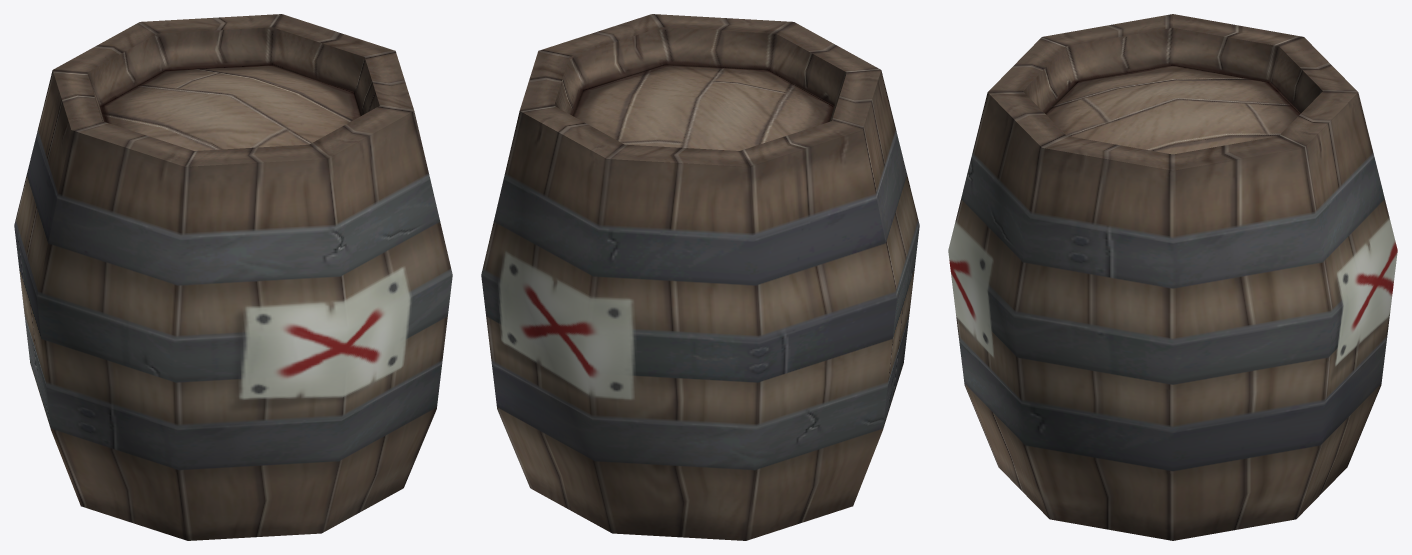
File: barrel-2.glb
The picture shows the model from 3 angles, left to right: view 1: azimuth 30°, elevation 25°; view 2: azimuth 150°, elevation 25°; view 3: azimuth 270°, elevation 25°; orthographic projection.
Parts seen in each view (by area): view 1: barrel.001_Circle; view 2: barrel.001_Circle; view 3: barrel.001_Circle.
Part boxes in pixels (<box>): barrel.001_Circle: <box>14,14,452,540</box>; barrel.001_Circle: <box>481,14,919,540</box>; barrel.001_Circle: <box>948,14,1397,540</box>.
Size of the model in its own units: 1.62 by 1.49 by 1.62.
Materials: 1 (1 with a texture image).
